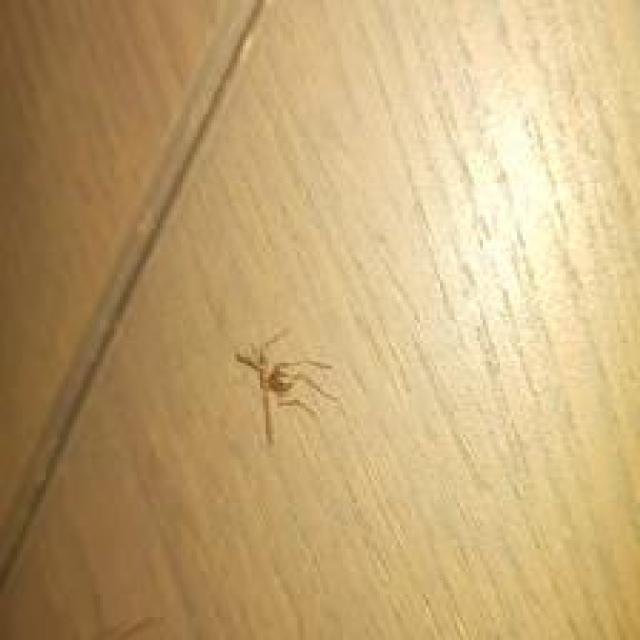Culex: (233, 333, 344, 447)
